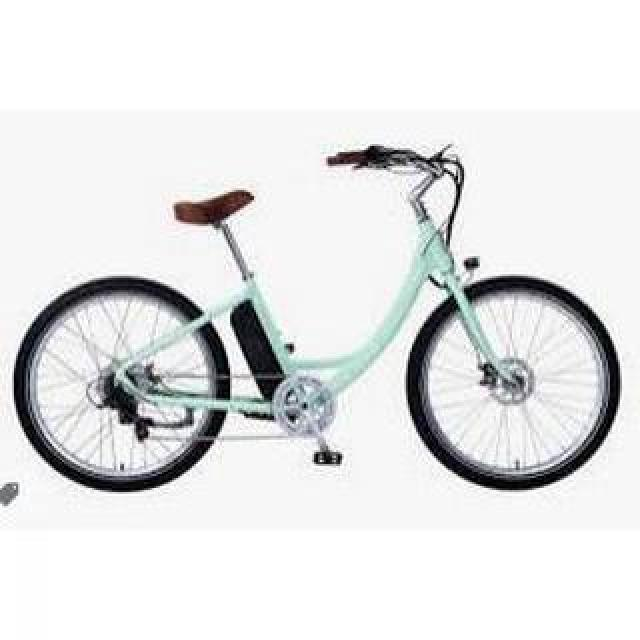Person: (12, 141, 628, 503)
